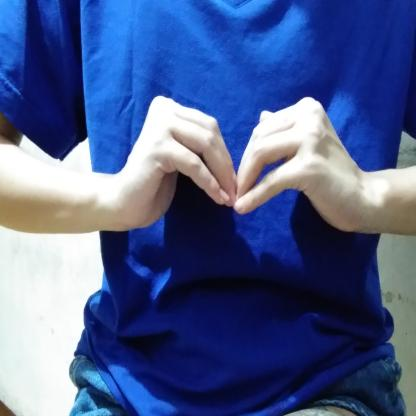how: (116, 86, 370, 244)
